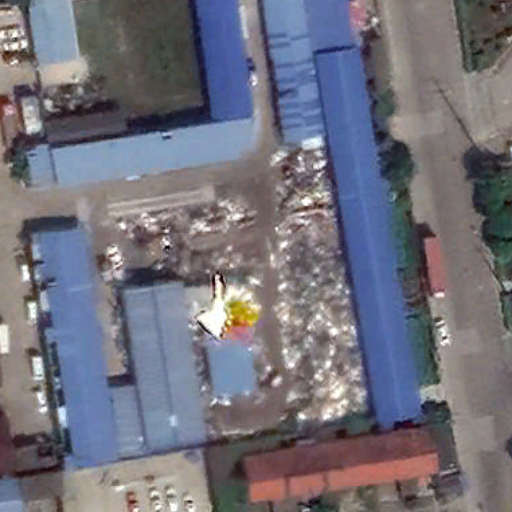msw: (275, 136, 373, 426)
